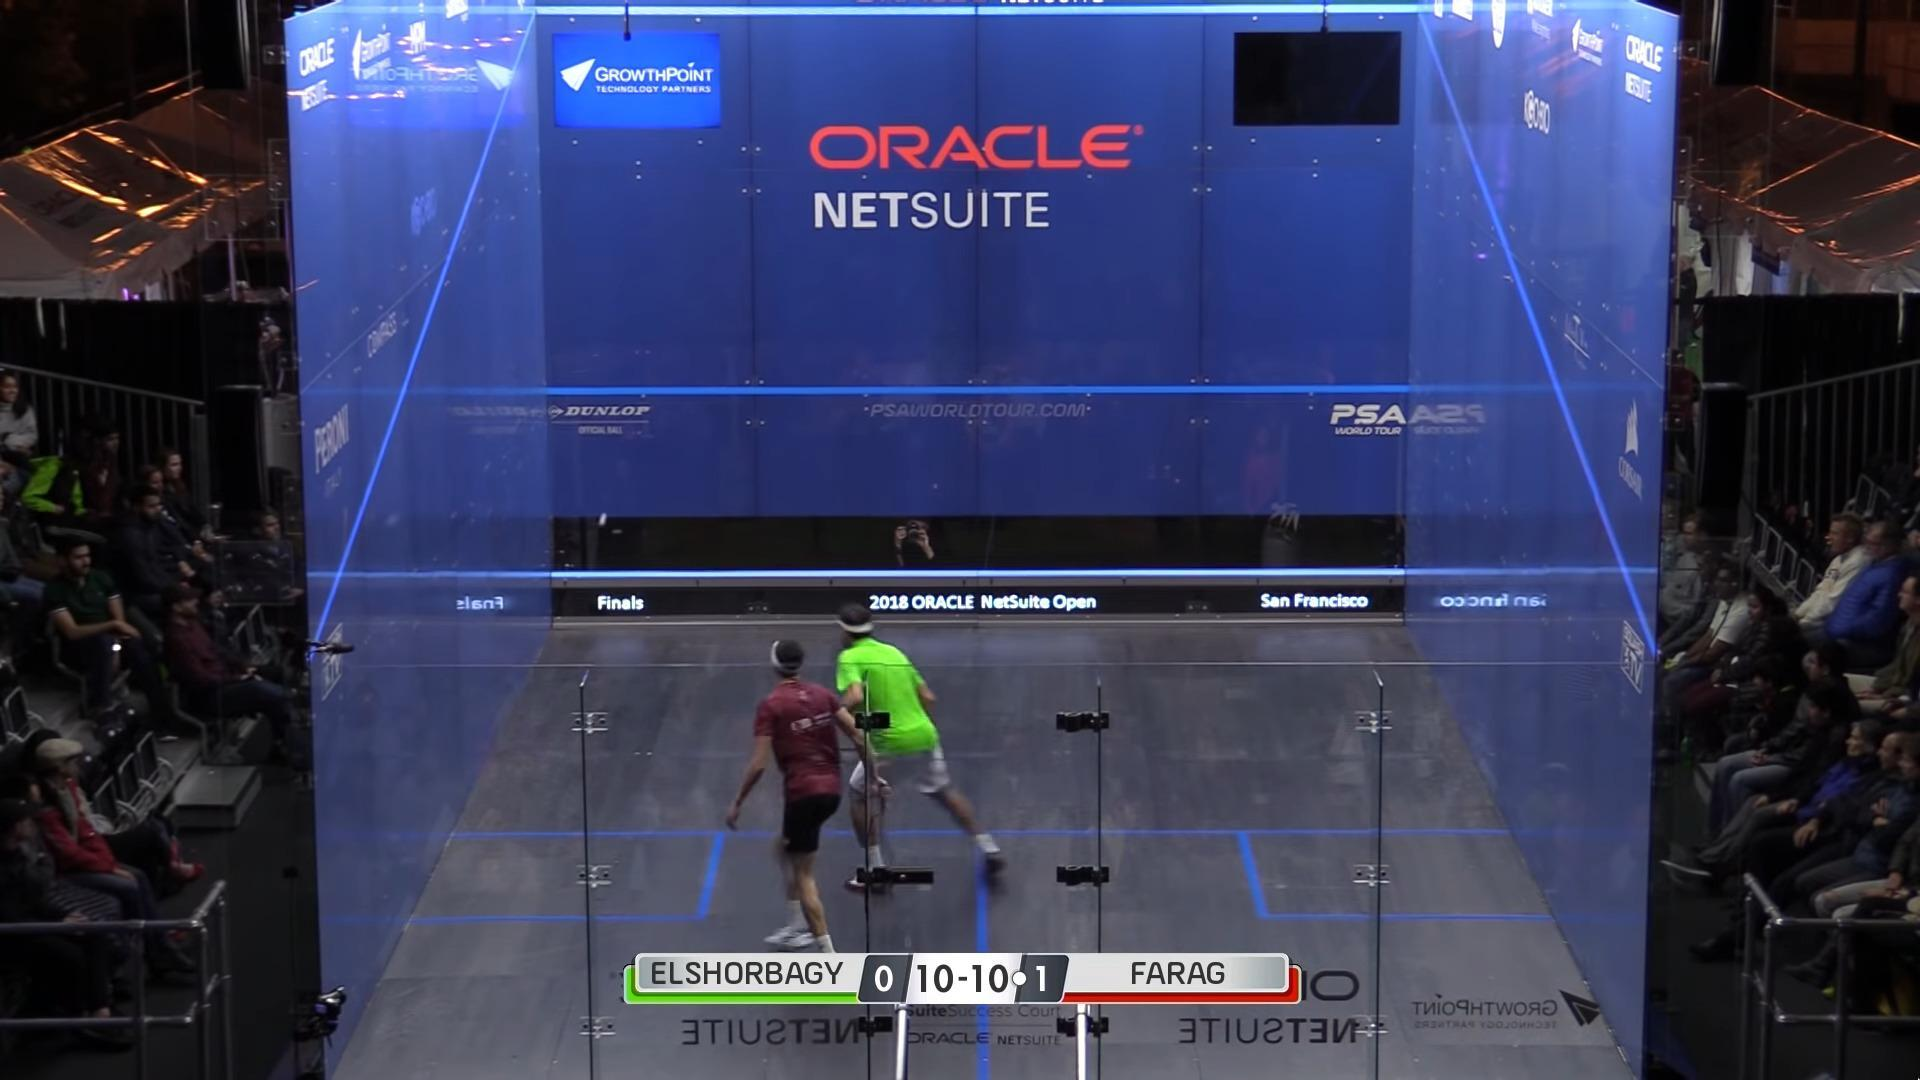Squash-Ball: (592, 506, 618, 534)
